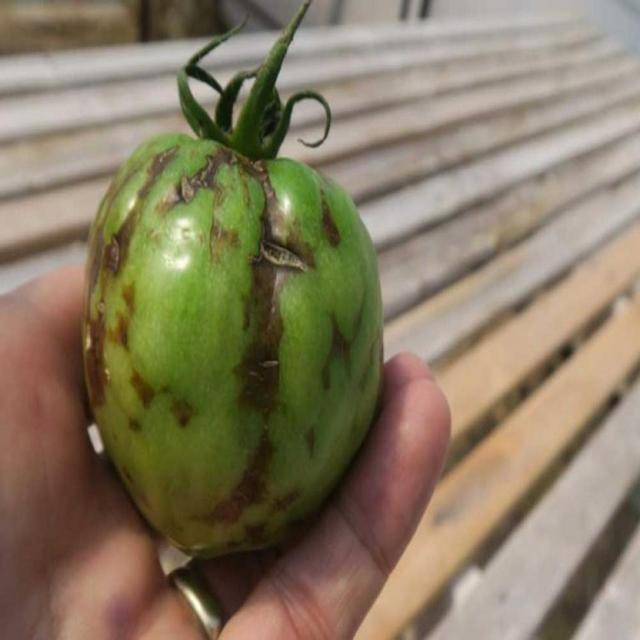Spotted wilt Virus Fruit: (39, 52, 98, 206)
